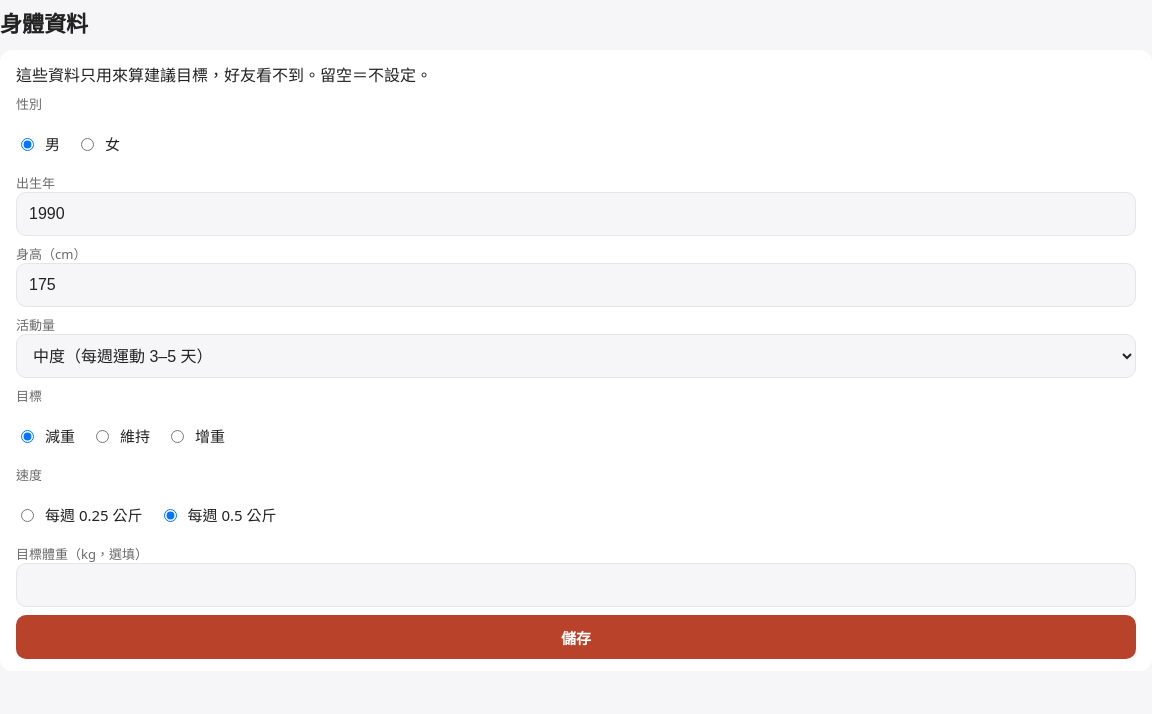
Test case: /me/body › 前端擋範圍：身高 99、目標體重 24.9、出生年 199 → 三則錯誤，不送出
The image size is (1152, 714).
Replace the text in the field labelled "身高（cm）" with "99" at (576, 285), box [16,263,1136,307]
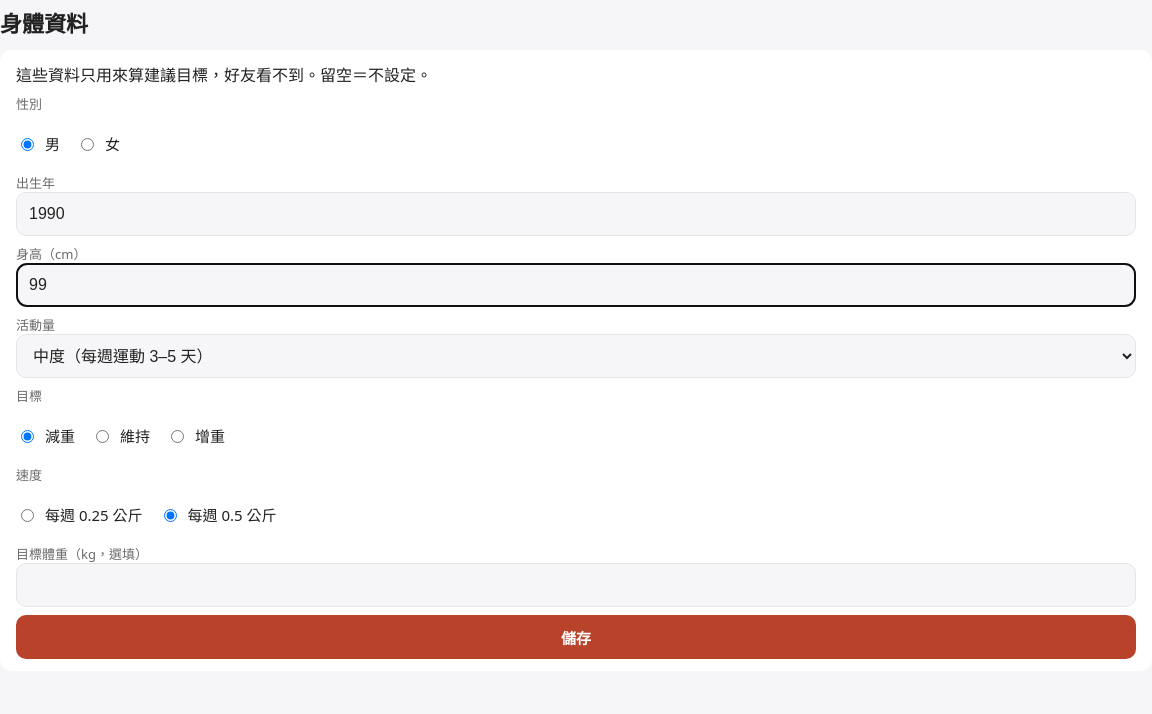
Type "24.9" into the field labelled "目標體重（kg，選填）" at (576, 585), box [16,563,1136,607]
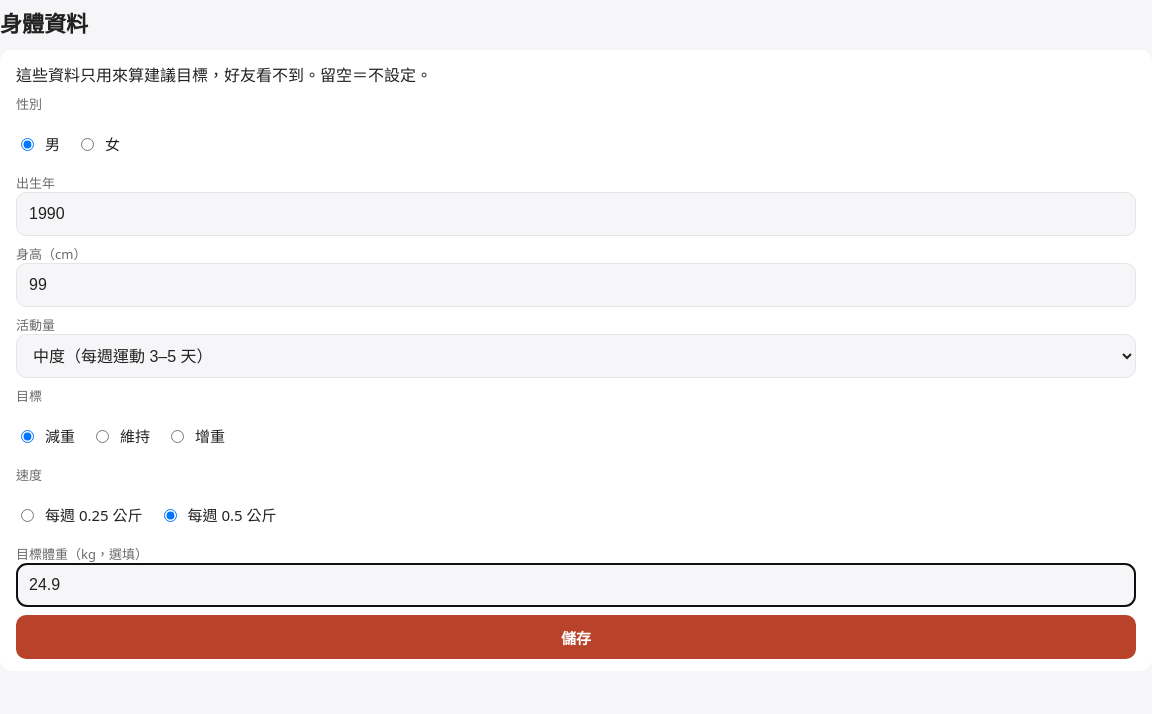
Replace the text in the field labelled "出生年" with "199" at (576, 214), box [16,192,1136,236]
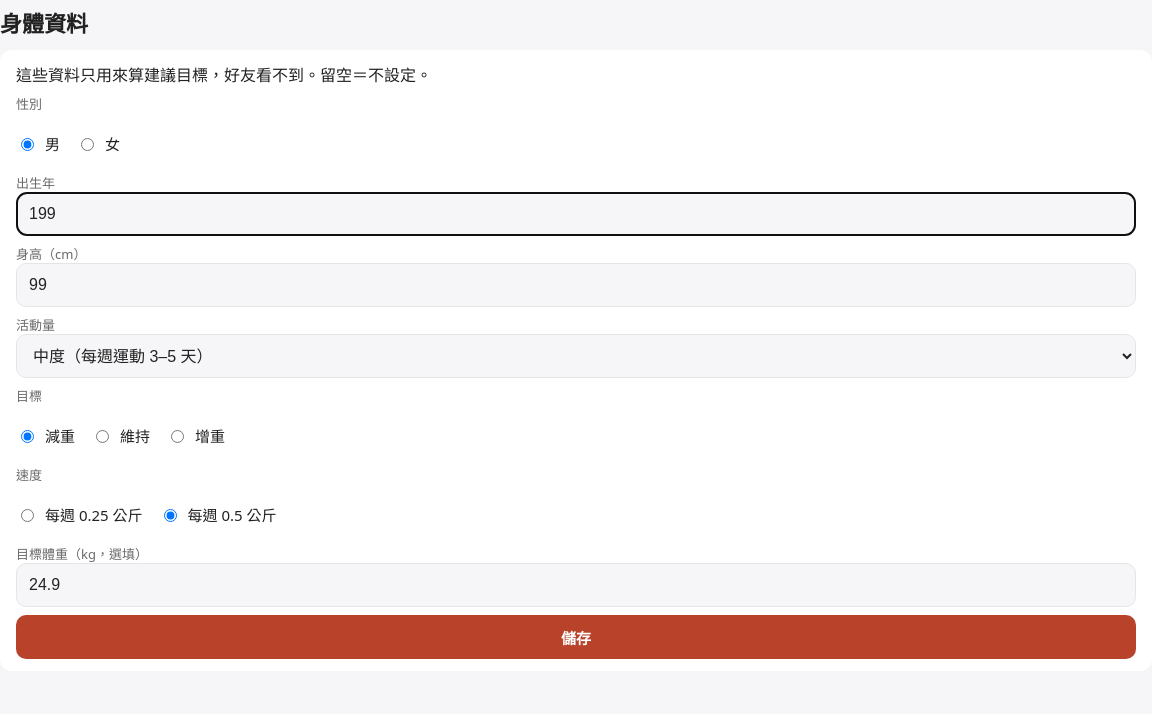
Click the button "儲存" at (576, 637), box [16,615,1136,659]
(page scrolled)
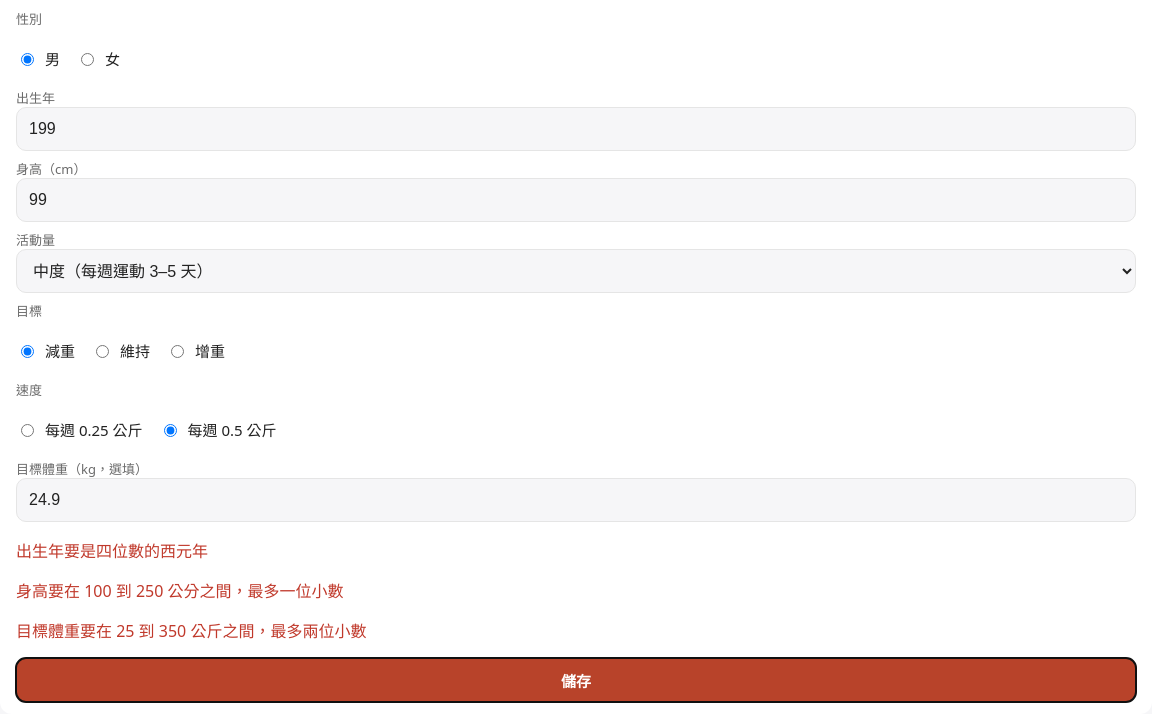
Expected: the number of list items is 3, [16,540,208,562]; [16,580,344,602]; [16,620,366,642]
Expected: the message shows "出生年要是四位數的西元年", [16,540,208,562]
Expected: the message shows "身高要在 100 到 250 公分之間", [16,580,344,602]
